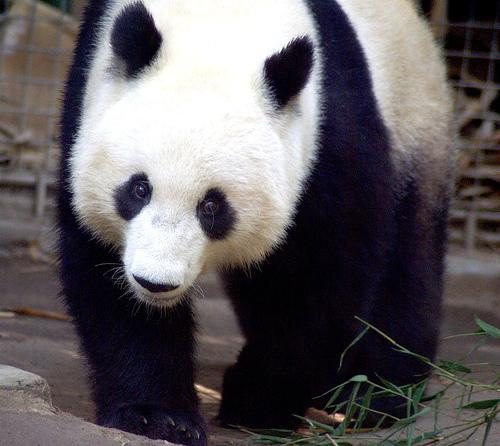panda: (57, 0, 458, 445)
